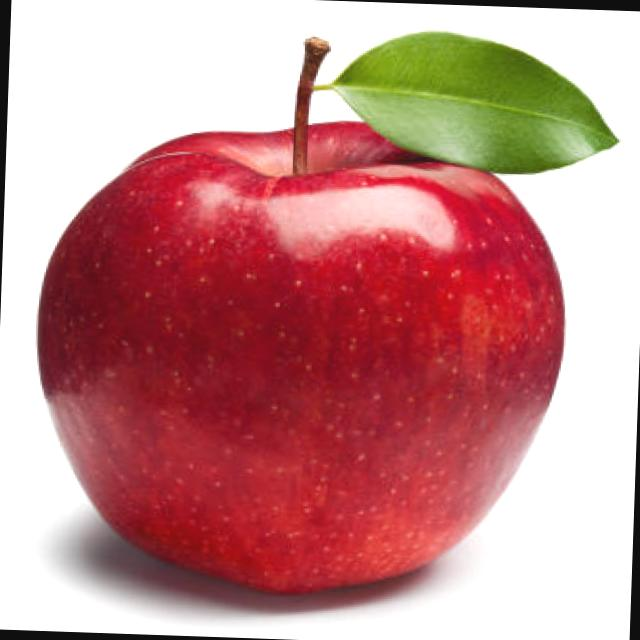apple: (26, 108, 562, 609)
